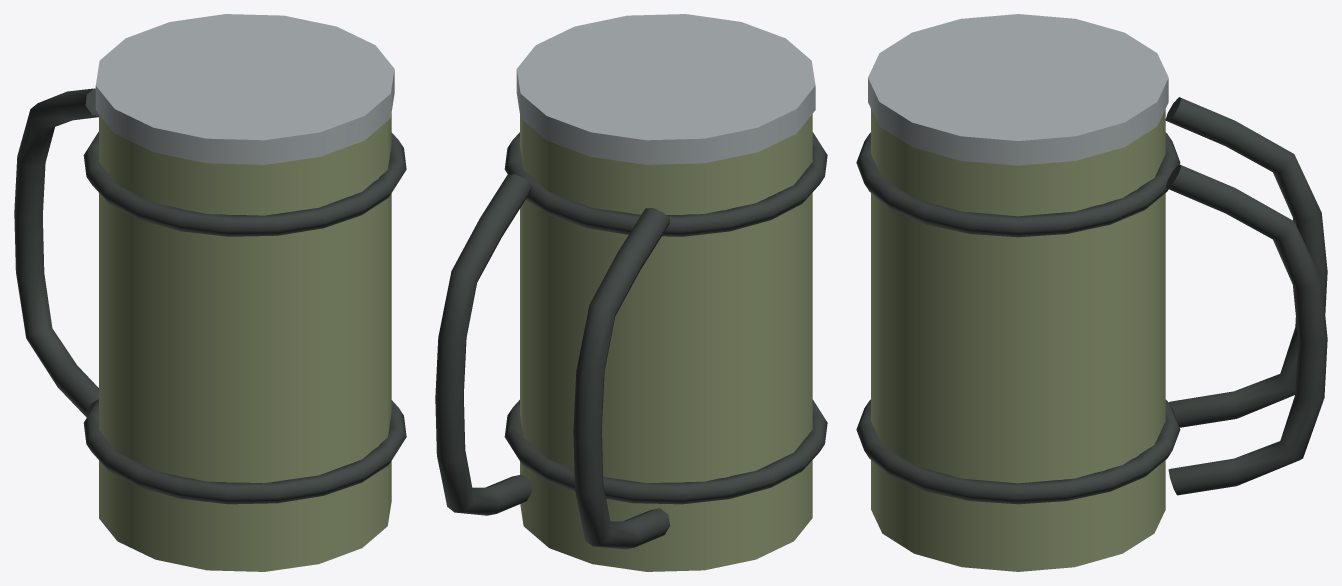
The model's file is backpacks-and-expedition-storage-barrel-back-carrier-fc1634d3__21076.glb.
3 renders of one model, left to right at view 1: azimuth 30°, elevation 25°; view 2: azimuth 150°, elevation 25°; view 3: azimuth 270°, elevation 25°, orthographic.
Parts seen in each view (by area): view 1: barrel-back-carrier; view 2: barrel-back-carrier; view 3: barrel-back-carrier.
Part boxes in pixels (box(x1,y1,x2,y2)): barrel-back-carrier: box(14, 14, 406, 571); barrel-back-carrier: box(435, 14, 827, 571); barrel-back-carrier: box(856, 14, 1327, 571).
Bounding box in the file's own units: 0.418 × 0.615 × 0.6079.
